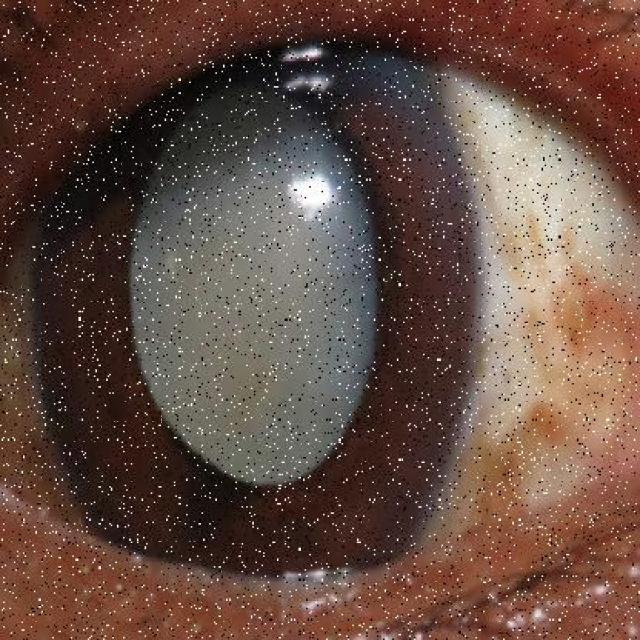Cataract: (32, 40, 490, 593)
